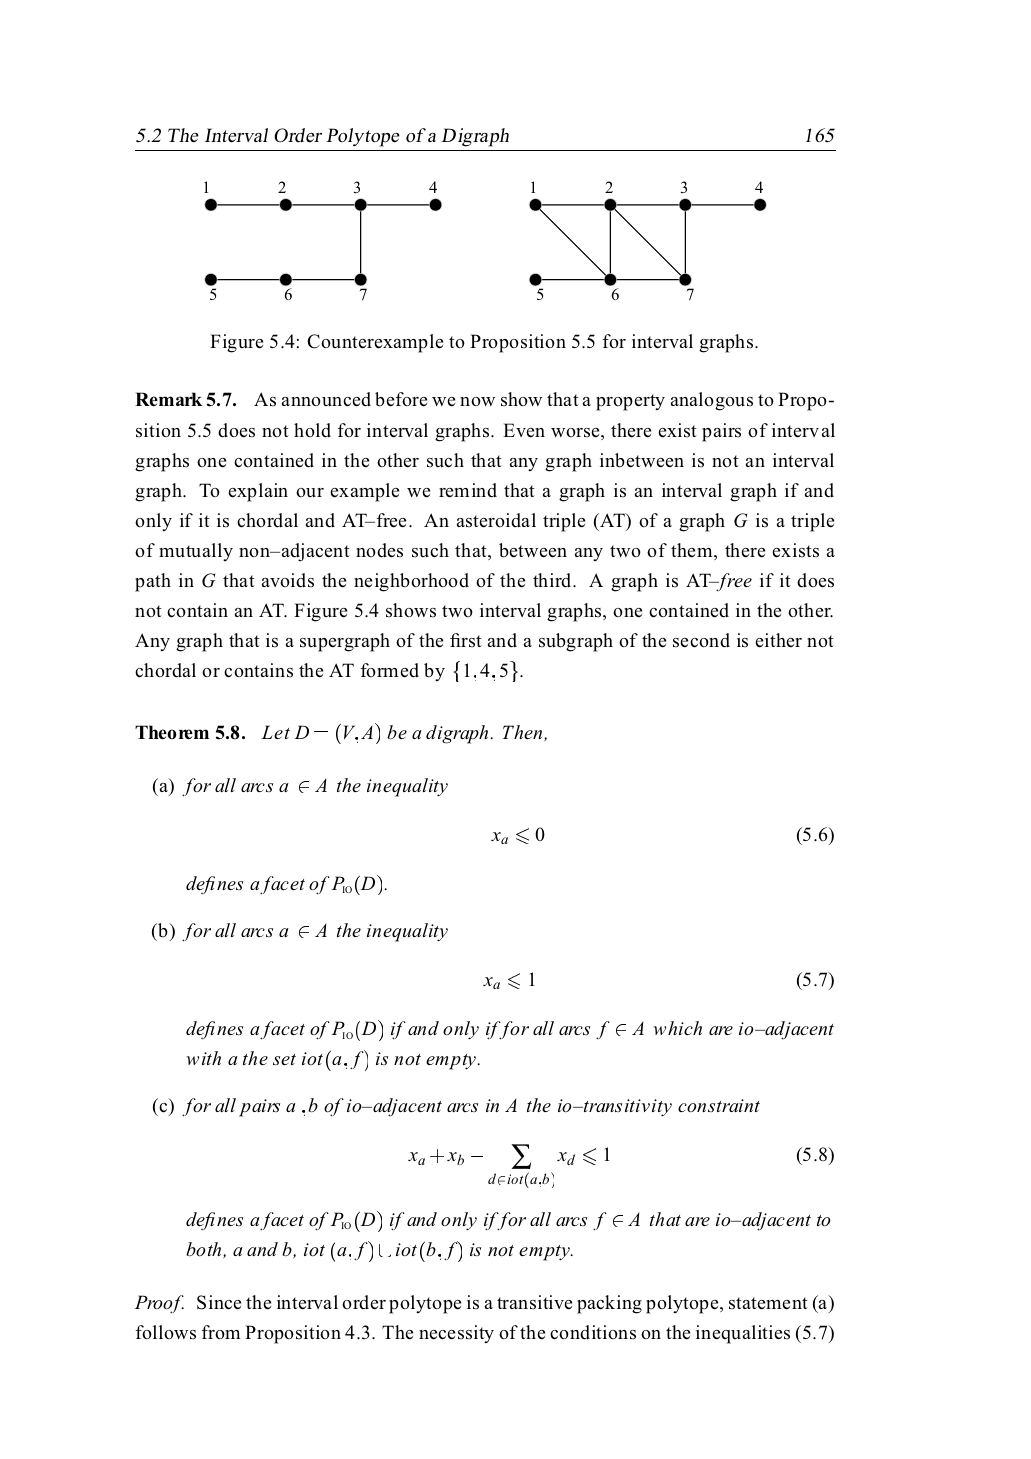figure: (529, 181, 767, 300), (204, 181, 441, 300)
formula: (408, 1144, 834, 1187), (491, 825, 834, 846), (483, 972, 834, 991)
